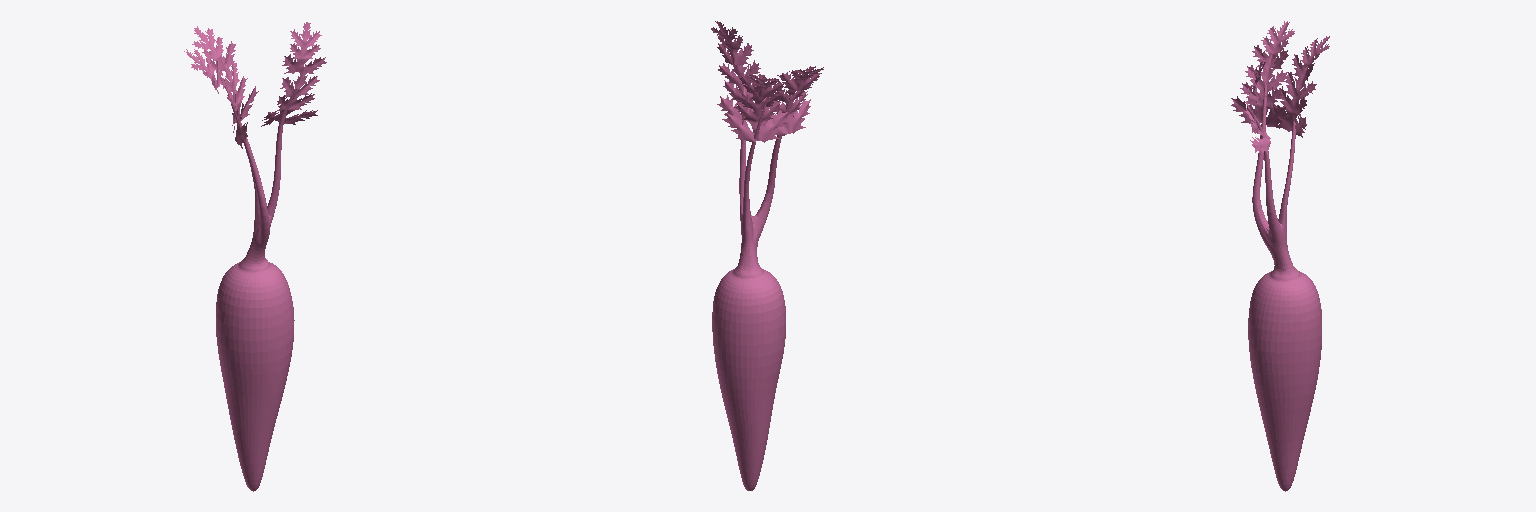
robot.urdf — bike:
<?xml version="0.0" ?>
<robot name="bike">
  <link name="robot/frameLink">
    <inertial>
      <origin rpy="1.57 0 0" xyz="0 0 0"/>
       <mass value="5.0"/>
       <inertia ixx="0.1" ixy="0" ixz="0" iyy="0.1" iyz="0" izz="0.1"/>
    </inertial>
    <visual>
      <origin rpy="1.57 0 0" xyz="0 0 0"/>
      <geometry>
      <mesh filename="package://mobro/urdf/files/frame_scaled_right.stl"/>
      </geometry>
	<material name="framemat0">
      		<color rgba="0.9 0.4 0. 1" />
	</material>
    </visual>
     <visual>
      <origin rpy="1.57 0 0" xyz="0 0 0"/>
      <geometry>
      <mesh filename="package://mobro/urdf/files/frame_scaled_left.stl"/>
      </geometry>
        <material name="framemat0">
                <color rgba="0.9 0.4 0. 1" />
        </material>
    </visual>
    <collision>
      <origin rpy="1.57 0 0" xyz="0 0 0"/>
      <geometry>
       <mesh filename="package://mobro/urdf/files/frame_scaled_right.stl"/>
      </geometry>
    </collision>
<collision>
      <origin rpy="1.57 0 0" xyz="0 0 0"/>
      <geometry>
       <mesh filename="package://mobro/urdf/files/frame_scaled_left.stl"/>
      </geometry>
    </collision>
  </link>


 <link name="robot/handlebarLink">
    <inertial>
      <origin rpy="0 0 0" xyz="0 0 0"/>
       <mass value=".5"/>
       <inertia ixx="0.1" ixy="0" ixz="0" iyy="0.1" iyz="0" izz="0.1"/>
    </inertial>

 <visual>
<origin rpy=" -1.5089523943366046 0.017064611667450248 -1.57454489647697 " xyz=" -0.03313875198364258 0.0 -0.23958677053451538"/>
<geometry>
 <mesh filename="package://mobro/urdf/files/handlebar_scaled.stl"/>
      </geometry>
        <material name="framemat0">
                <color rgba="0.9 0.4 0. 1" />
        </material>
    </visual>
     <collision>
<origin rpy=" -1.5089523943366046 0.017064611667450248 -1.57454489647697 " xyz=" -0.03313875198364258 0.0 -0.23958677053451538"/>
      <geometry>
       <mesh filename="package://mobro/urdf/files/handlebar_scaled.stl"/>
      </geometry>
    </collision>
  </link>

 <joint name="frame_to_handlebar" type="revolute">
    <axis xyz="0 0 1"/>
    <parent link="robot/frameLink"/>
    <child link="robot/handlebarLink"/>
    <origin rpy="0 -0.261799387799149 0" xyz="0.70  0  0.22"/>
    <limit effort="100" velocity="100" lower="-1.57" upper="1.57"/>
    <joint_properties damping="0.0" friction="0.0"/>
  </joint>

<link name="robot/frontWheelLink">
    <inertial>
      <origin rpy="1.57 0 0" xyz="0 0 0"/>
       <mass value="1.0"/>
       <inertia ixx="0.1" ixy="0" ixz="0" iyy="0.1" iyz="0" izz="0.1"/>
    </inertial>
    <visual>
      <origin rpy="1.57 0 0" xyz="0 0 0"/>
      <geometry>
      <mesh filename="package://mobro/urdf/files/wheel_scaled.stl"/>
      </geometry>
        <material name="framemat0">
                <color rgba="0.9 0.4 0. 1" />
        </material>
    </visual>
    <collision>
      <origin rpy="1.57 0 0" xyz="0 0 0"/>
      <geometry>
       <mesh filename="package://mobro/urdf/files/wheel_scaled.stl"/>
      </geometry>
    </collision>
  </link>

 <joint name="handlebar_to_frontwheel" type="continuous">
    <axis xyz="0 1 0"/>
    <parent link="robot/handlebarLink"/>
    <child link="robot/frontWheelLink"/>
    <origin rpy="0 0 0" xyz="0.07 0  -0.69"/>
    <limit effort="100" velocity="100"/>
    <joint_properties damping="0.0" friction="0.0"/>
  </joint>


<link name="robot/backWheelLink">
    <inertial>
      <origin rpy="1.57 0 0" xyz="0 0 0"/>
       <mass value="1.0"/>
       <inertia ixx="0.1" ixy="0" ixz="0" iyy="0.1" iyz="0" izz="0.1"/>
    </inertial>
    <visual>
      <origin rpy="1.57 0 0" xyz="0 0 0"/>
      <geometry>
      <mesh filename="package://mobro/urdf/files/wheel_scaled.stl"/>
      </geometry>
        <material name="framemat0">
                <color rgba="0.9 0.4 0. 1" />
        </material>
    </visual>
    <collision>
      <origin rpy="1.57 0 0" xyz="0 0 0"/>
      <geometry>
       <mesh filename="package://mobro/urdf/files/wheel_scaled.stl"/>
      </geometry>
    </collision>
  </link>

 <joint name="frame_to_backwheel" type="continuous">
    <axis xyz="0 1 0"/>
    <parent link="robot/frameLink"/>
    <child link="robot/backWheelLink"/>
    <origin rpy="0 0 0" xyz="-0.69 0 -0.42"/>
    <limit effort="100" velocity="100"/>
    <joint_properties damping="0.0" friction="0.0"/>
  </joint>
  
  <link name="robot/base_footprint"/>
 <joint name="footprint" type="fixed">
    <child link="robot/frameLink"/>
    <parent link="robot/base_footprint"/>
    <origin xyz="0.69 0 0.95"/>
  </joint>
  
  <link name="robot/carrot_disable"/>
  
    <link name="robot/carrot">
      <visual>
          <origin rpy="-1.57 0 0"/>
          <geometry>
              <mesh filename="package://mobro/urdf/carrot/carrot.dae" scale="0.003 0.003 0.003"/>
          </geometry>
      </visual>
  </link>
  
  <joint name="carrot_disable" type="prismatic">
    <parent link="robot/handlebarLink"/>
    <child link="robot/carrot_disable"/>
    <origin xyz="0 0 -1.17" rpy="0 0.261799387799149 0"/>
    <axis xyz="0 0 1"/>
    <limit lower="-100" upper="100" velocity="10" effort="-1"/>
  </joint> 
  
    <joint name="carrot" type="prismatic">
    <parent link="robot/carrot_disable"/>
    <child link="robot/carrot"/>
    <axis xyz="1 0 0"/>
    <limit lower="-100" upper="100" velocity="10" effort="-1"/>
  </joint> 


</robot>

--- What the picture shows (computed from the rendered views, not written in the file) ---
3 views of the same robot in one strip: view 1: azimuth 30°, elevation 25°; view 2: azimuth 150°, elevation 25°; view 3: azimuth 270°, elevation 25° (orthographic).
Robot: bike — 7 links, 6 joints (1 revolute, 2 continuous, 2 prismatic, 1 fixed); root link robot/base_footprint; default pose: every joint at zero.
Visible links, largest first — view 1: robot/carrot; view 2: robot/carrot; view 3: robot/carrot.
Link boxes in pixels (x1,y1,x2,y2): robot/carrot: (184, 22, 326, 491); robot/carrot: (711, 21, 823, 490); robot/carrot: (1231, 21, 1329, 491).
Size in the robot's own frame: 0.2305 by 0.1679 by 0.8174 metres.
Meshes: 5 distinct files referenced, 1 mesh visuals loaded (1 Collada DAE); not drawn: 5 (reference not matched to a file when rendering).